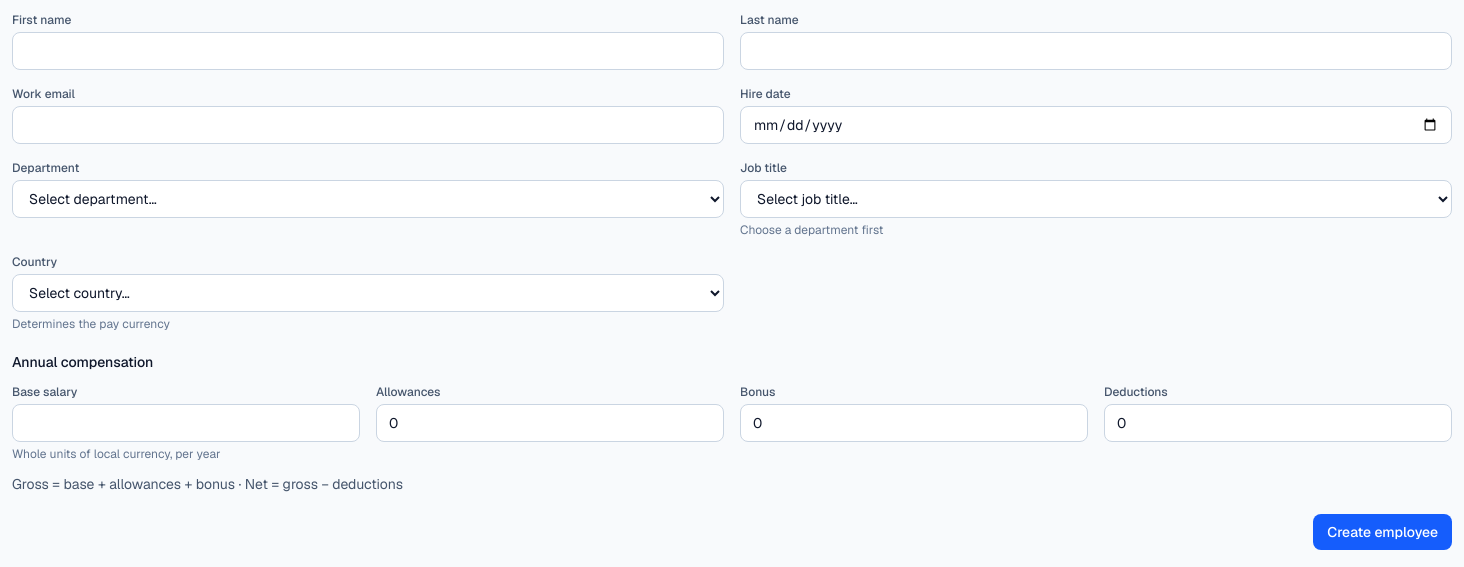
Scenario: EmployeeForm › limits job titles to the chosen department and shows the currency with a live gross/net preview
Expected: the dropdown labelled "Job title" is disabled, [740,180,1452,218]
Step 1. Select "Sales" in the dropdown labelled "Department" → (368, 199), box [12,180,724,218]
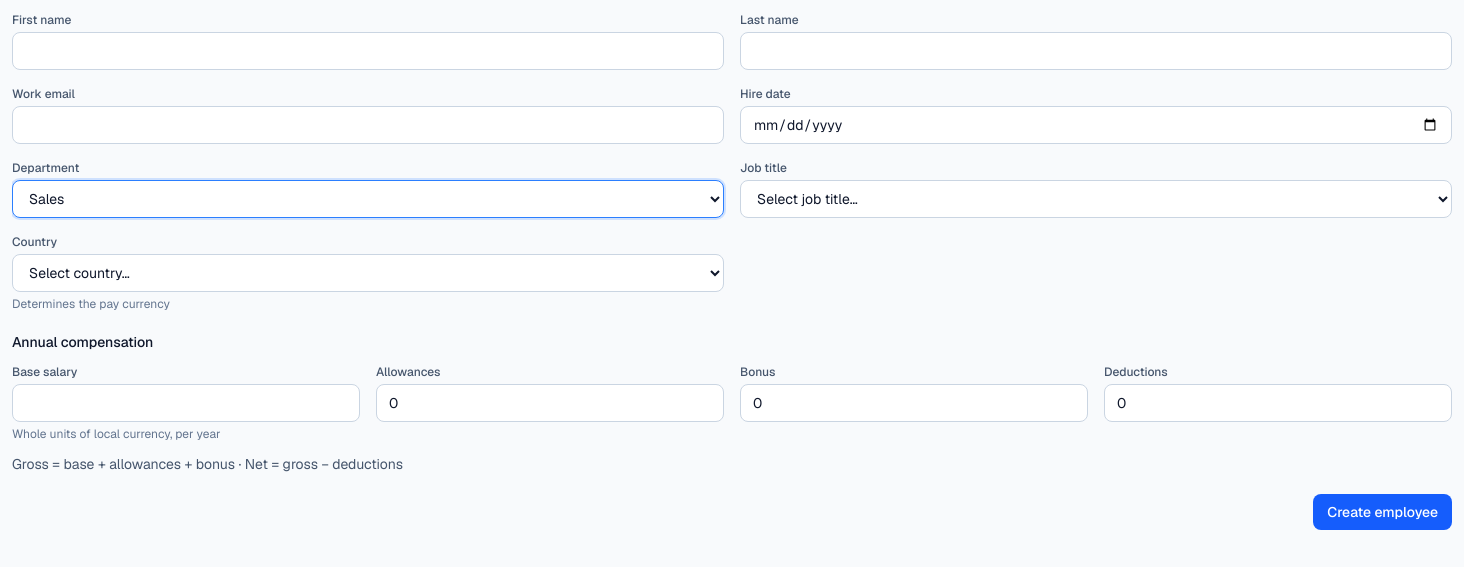
Step 2. Select "Germany (EUR)" in the dropdown labelled "Country" → (368, 273), box [12,254,724,292]
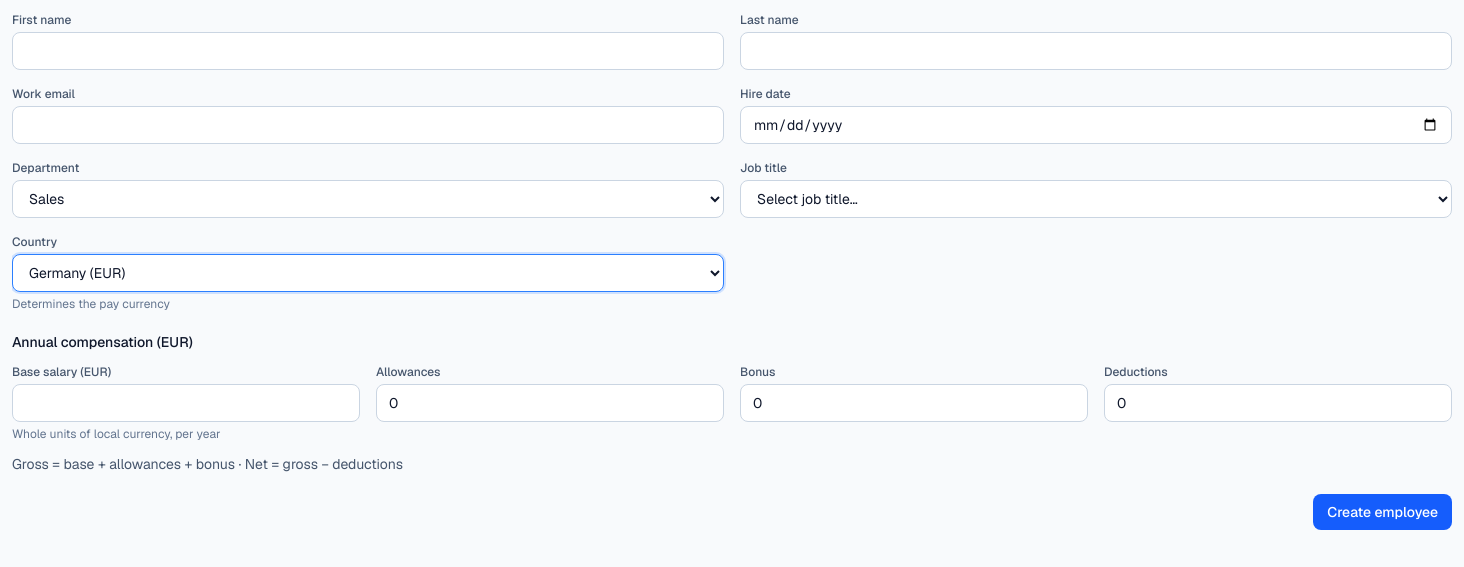
Step 3. Type "60000" into the number field labelled "Base salary (EUR)" → (186, 403), box [12,384,360,422]
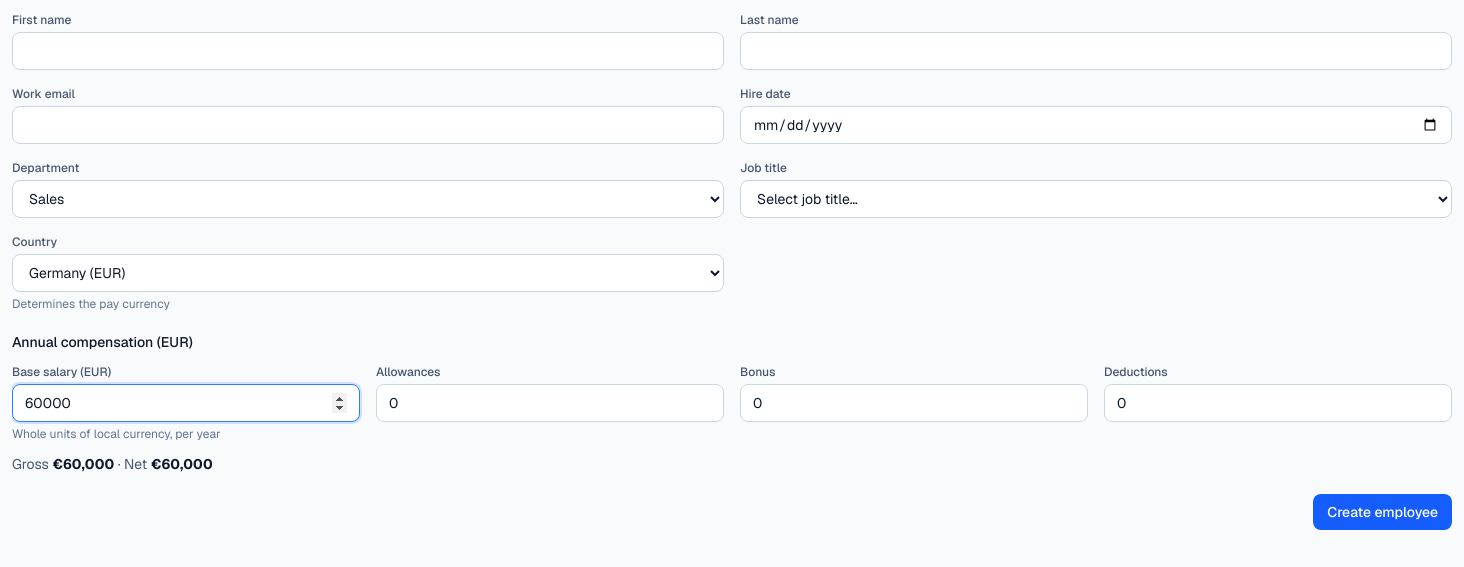
Step 4. Replace the text in the number field labelled "Bonus" with "5000" → (914, 403), box [740,384,1088,422]
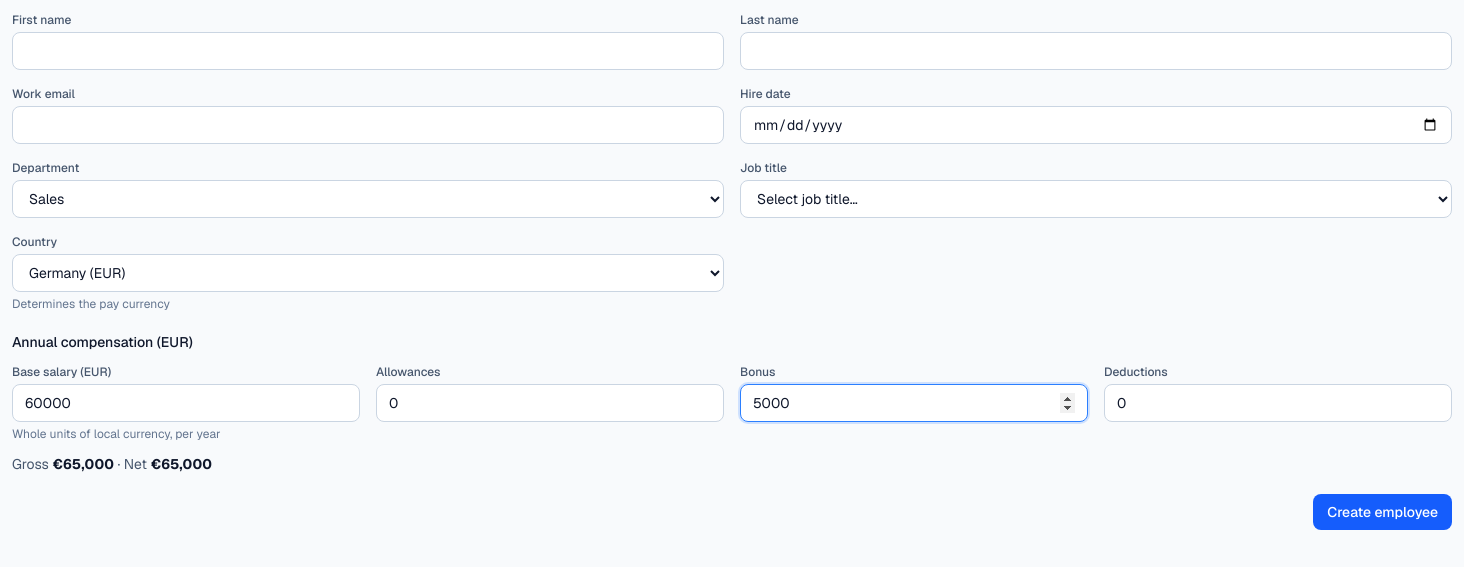
Step 5. Replace the text in the number field labelled "Deductions" with "3000" → (1278, 403), box [1104,384,1452,422]
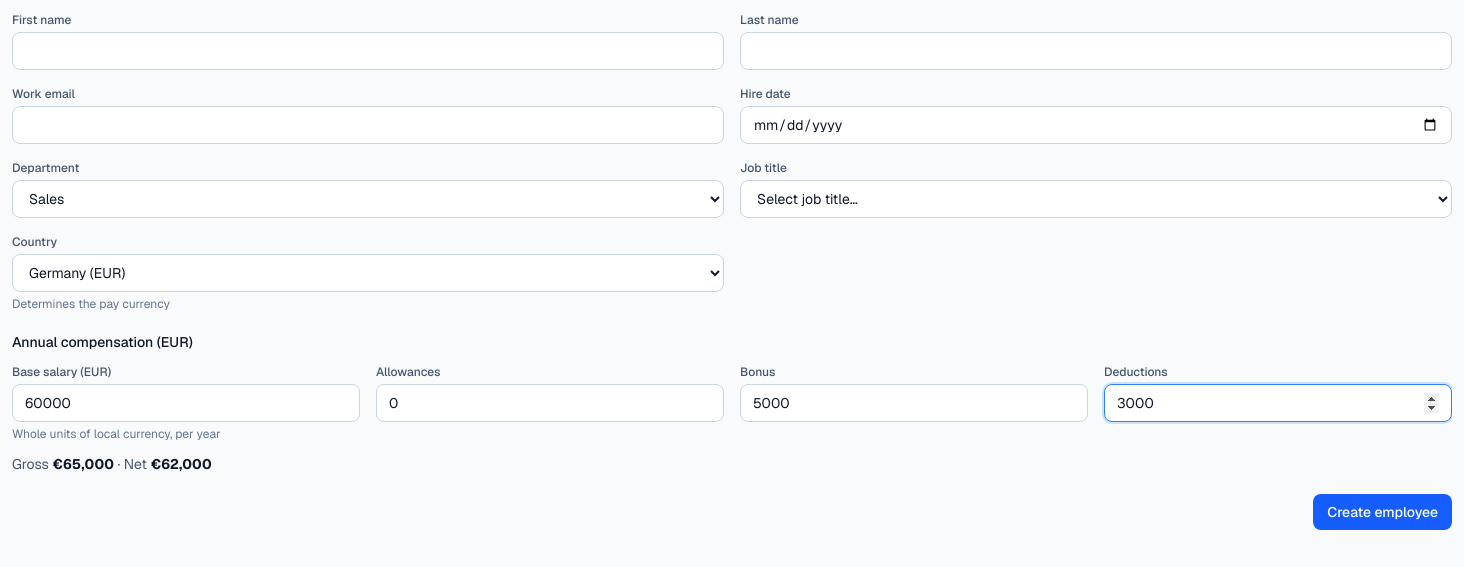
Result: the element with test id "pay-preview" reads "Gross €65,000 · Net €62,000" at [12,455,212,473]
